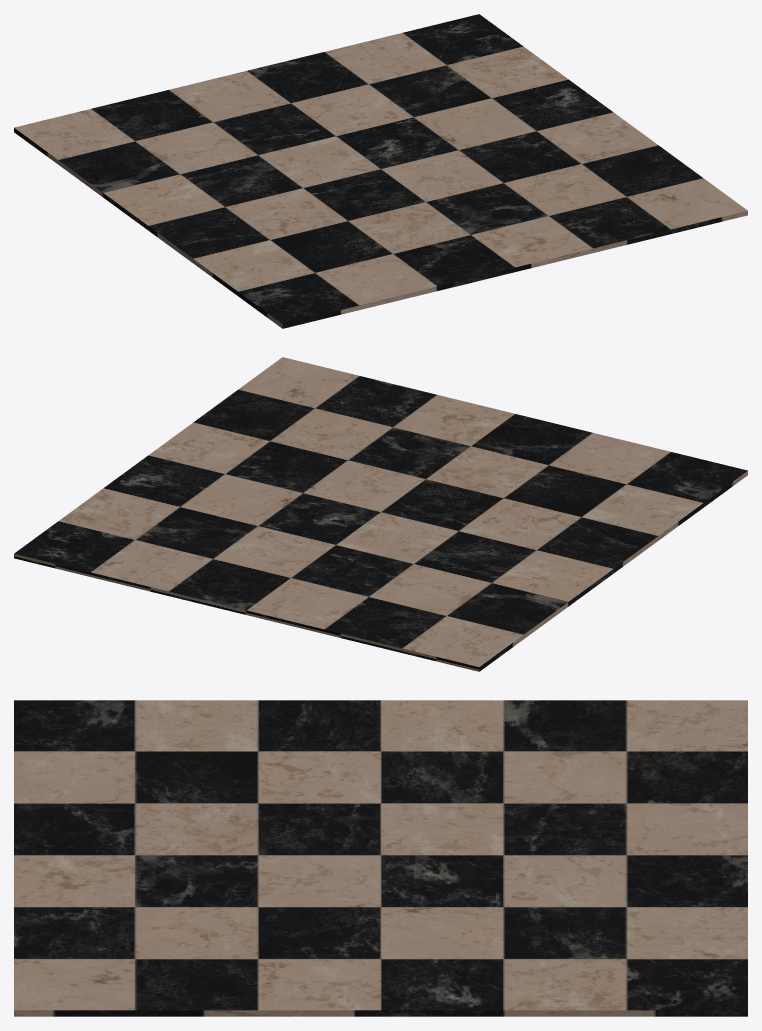
3 renders of one model, top to bottom at view 1: azimuth 30°, elevation 25°; view 2: azimuth 150°, elevation 25°; view 3: azimuth 270°, elevation 25°, orthographic. The views are drawn at different scales.
Visible parts, largest first — view 1: FL2x2B; view 2: FL2x2B; view 3: FL2x2B.
Boxes of the visible parts, x1=… form: FL2x2B: x1=14, y1=14, x2=747, y2=328; FL2x2B: x1=14, y1=357, x2=747, y2=671; FL2x2B: x1=14, y1=700, x2=747, y2=1016.
Bounding box in the file's own units: 2 × 0.0192 × 2.
Materials: 1 (1 with a texture image).
